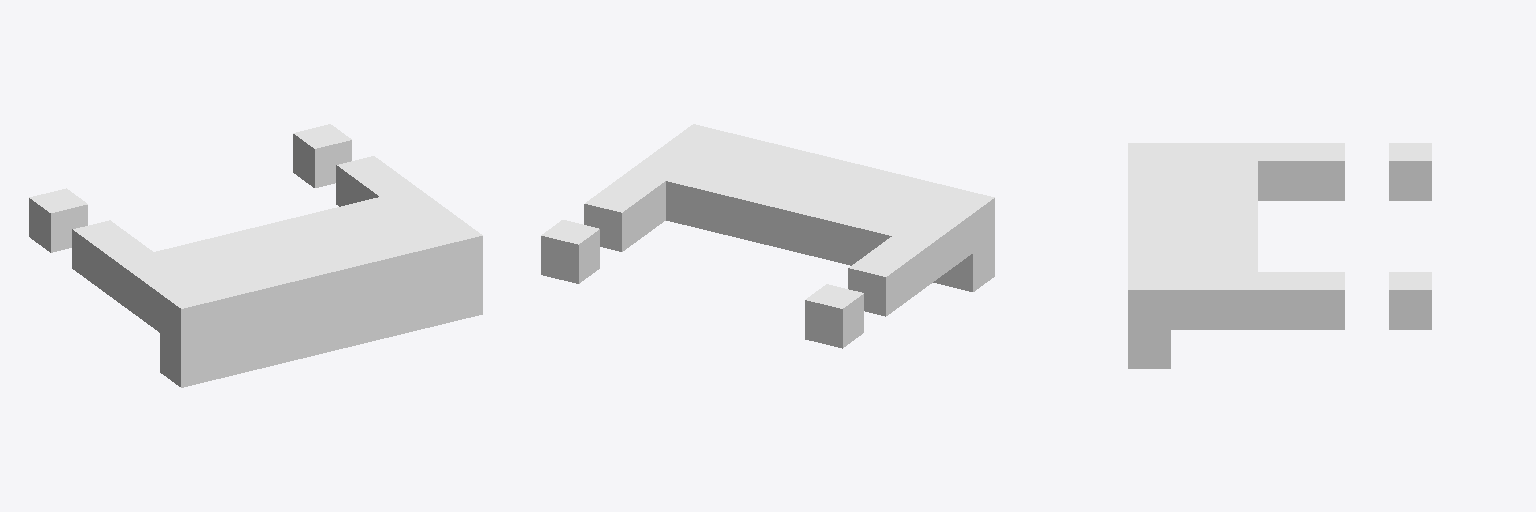
The model's file is Extra-5-InterstellarRunner_ThrusterFire.obj.
3 renders of one model, left to right at view 1: azimuth 30°, elevation 25°; view 2: azimuth 150°, elevation 25°; view 3: azimuth 270°, elevation 25°, orthographic.
Parts seen in each view (by area): view 1: InterstellarRunner_ThrusterFire; view 2: InterstellarRunner_ThrusterFire; view 3: InterstellarRunner_ThrusterFire.
Part boxes in pixels (x1,y1,x2,y2): InterstellarRunner_ThrusterFire: (29,124,482,387); InterstellarRunner_ThrusterFire: (541,124,994,348); InterstellarRunner_ThrusterFire: (1128,143,1431,368).
Size of the model in its own units: 0.8 by 0.2 by 0.7.